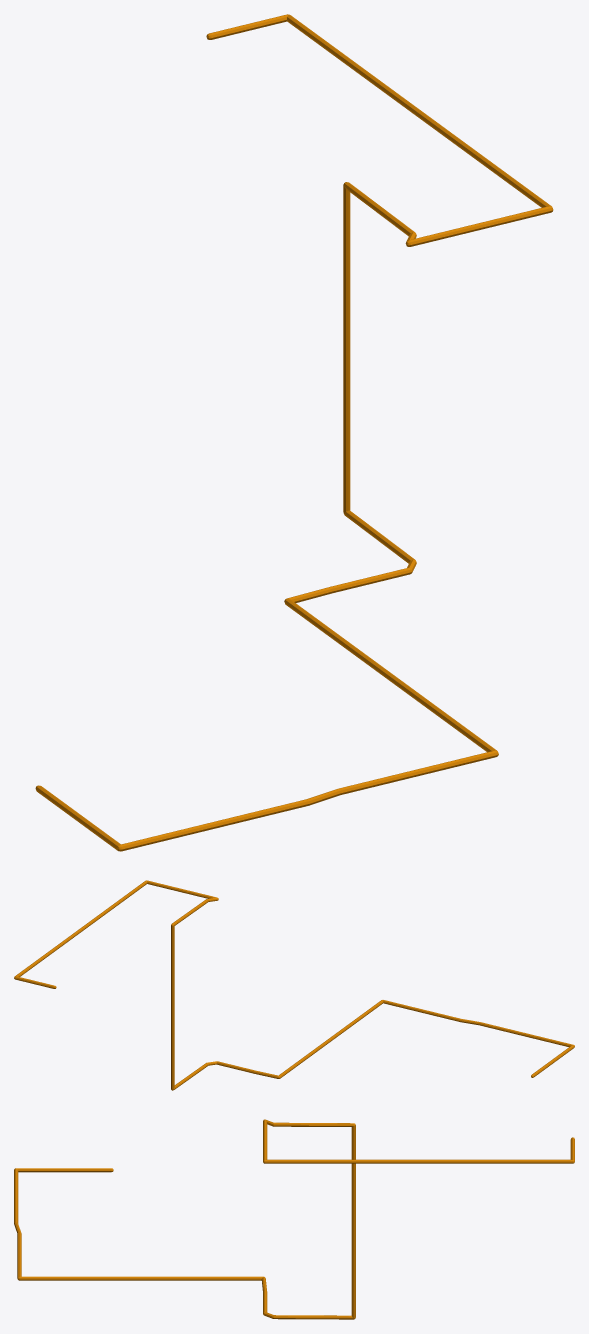
3 views of the same model, one above another, from view 1: azimuth 30°, elevation 25°; view 2: azimuth 150°, elevation 25°; view 3: azimuth 270°, elevation 25° (orthographic). The views are drawn at different scales.
Size of the model in its own units: 2071 by 1020 by 2643.
